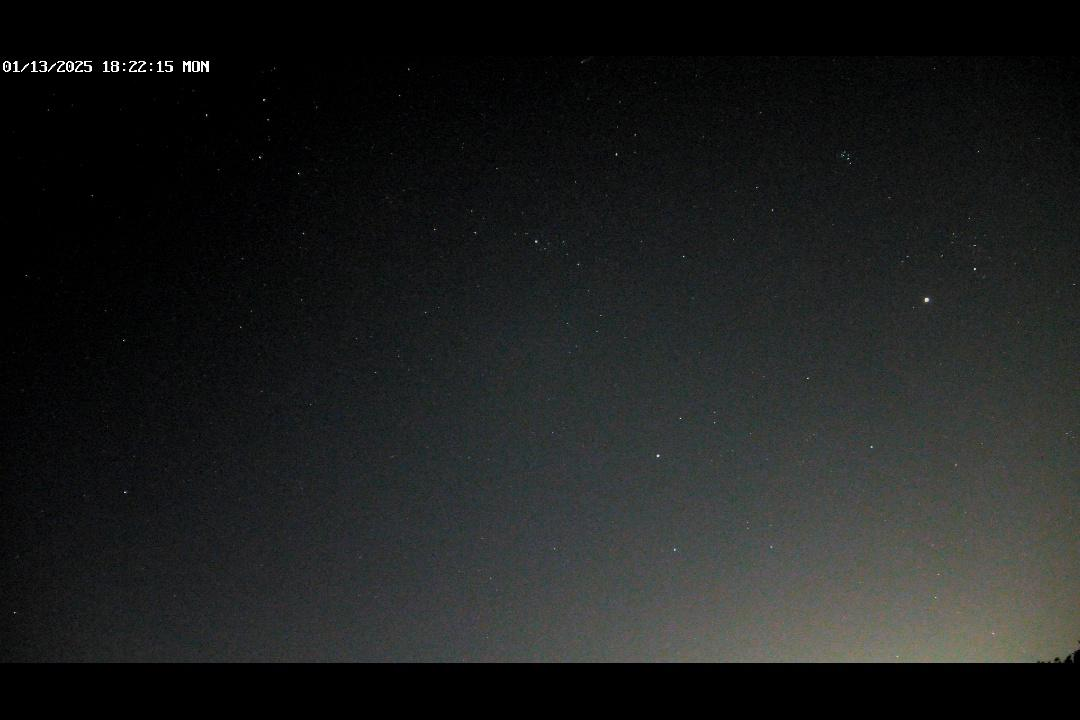Plane: (572, 54, 608, 66)
